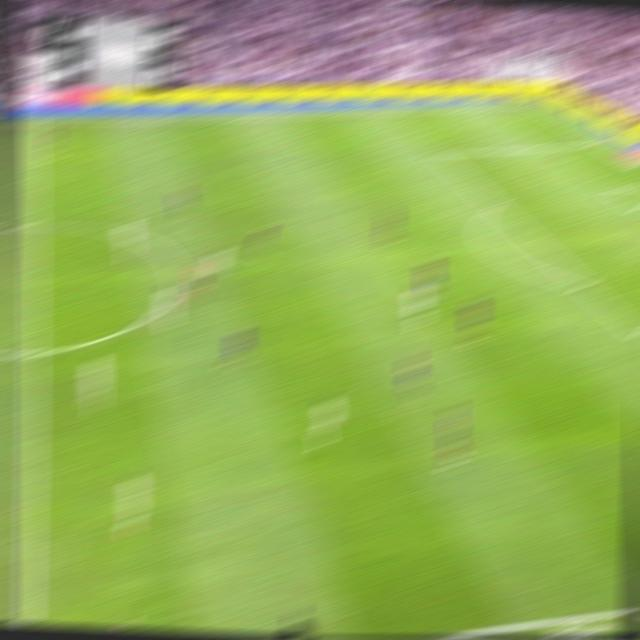bigarea_top_inner: (430, 147, 448, 160)
bigarea_top_outter: (590, 136, 608, 147)
bottom_arc_area_intersection: (573, 277, 593, 293)
halfcircle_bottom: (21, 338, 45, 367)
halfcircle_top: (22, 213, 45, 237)
midline_top_intersection: (25, 117, 43, 128)
smallarea_top_inner: (602, 184, 617, 193)
top_arc_area_intersection: (485, 198, 504, 211)
